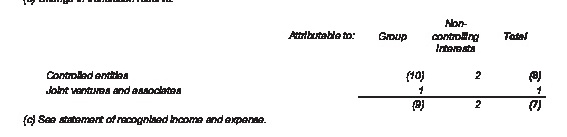table: (0, 0, 567, 137)
